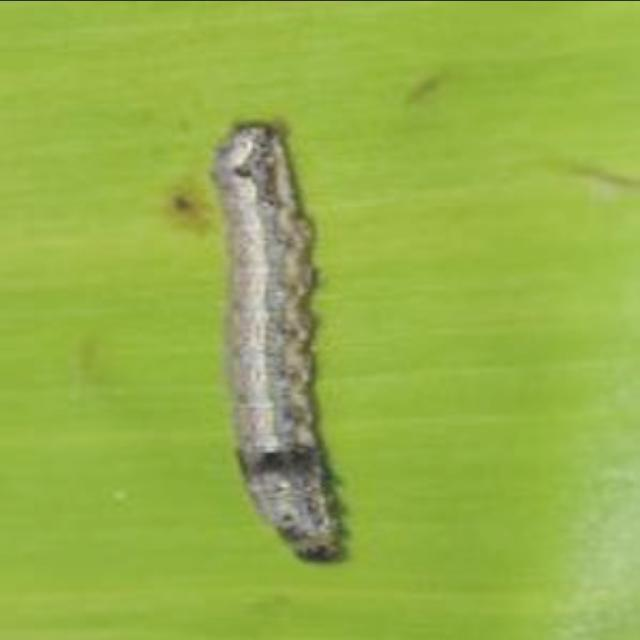Tobacco cutworm: (147, 61, 459, 627)
